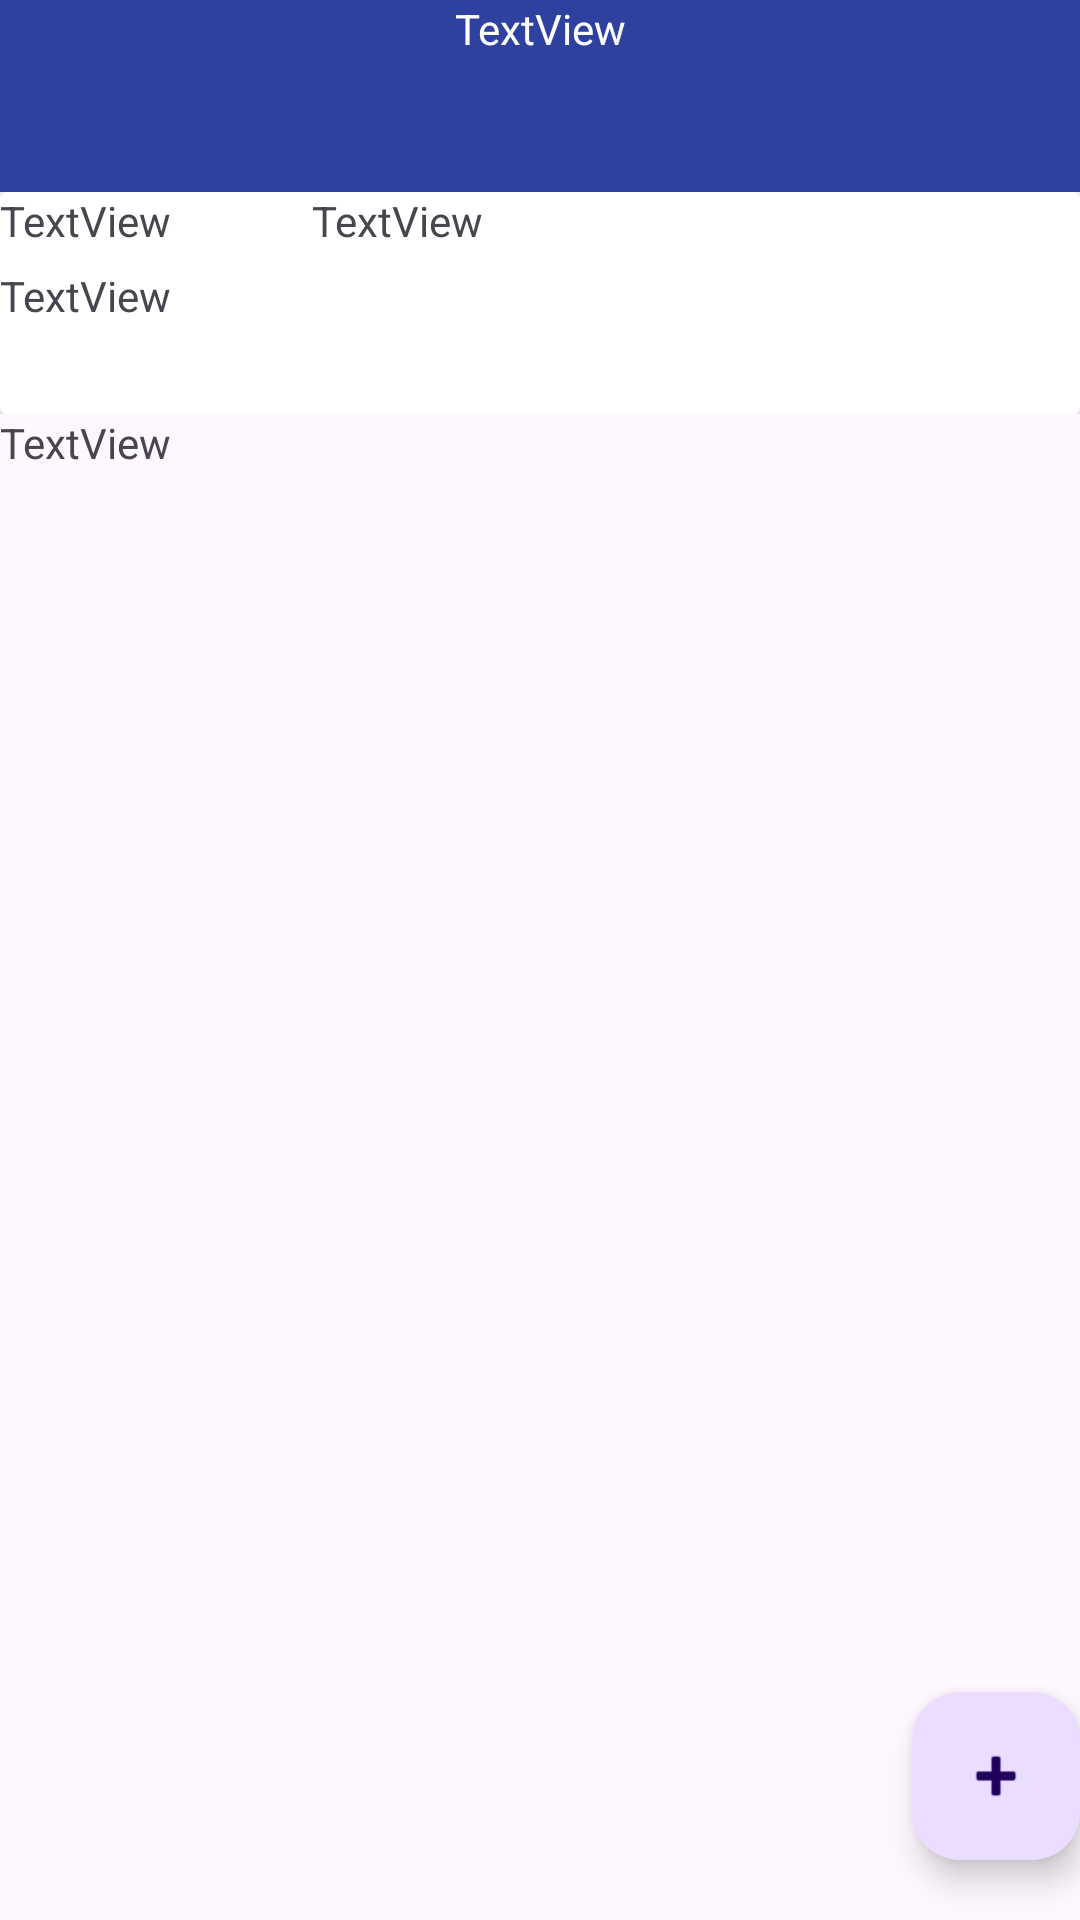

Screen size 1080×1920. Icon name, then its center in pixels as (x=x, y=y):
add: (x=996, y=1776)
